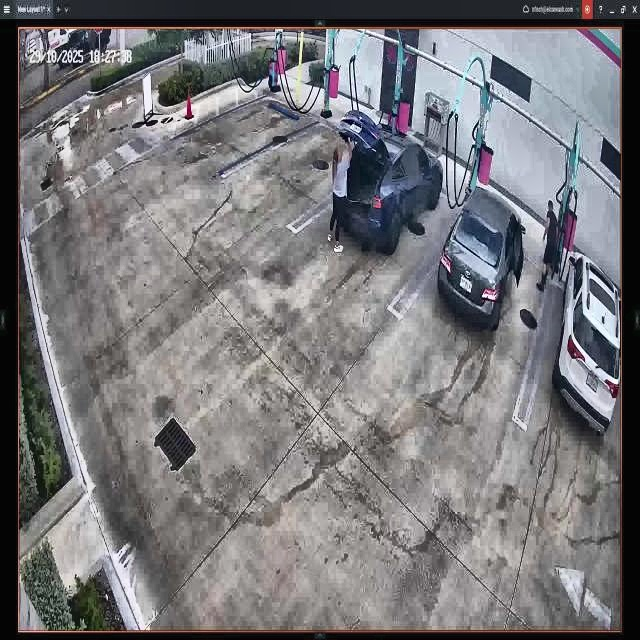Car: (340, 110, 442, 247), (439, 185, 525, 328)
